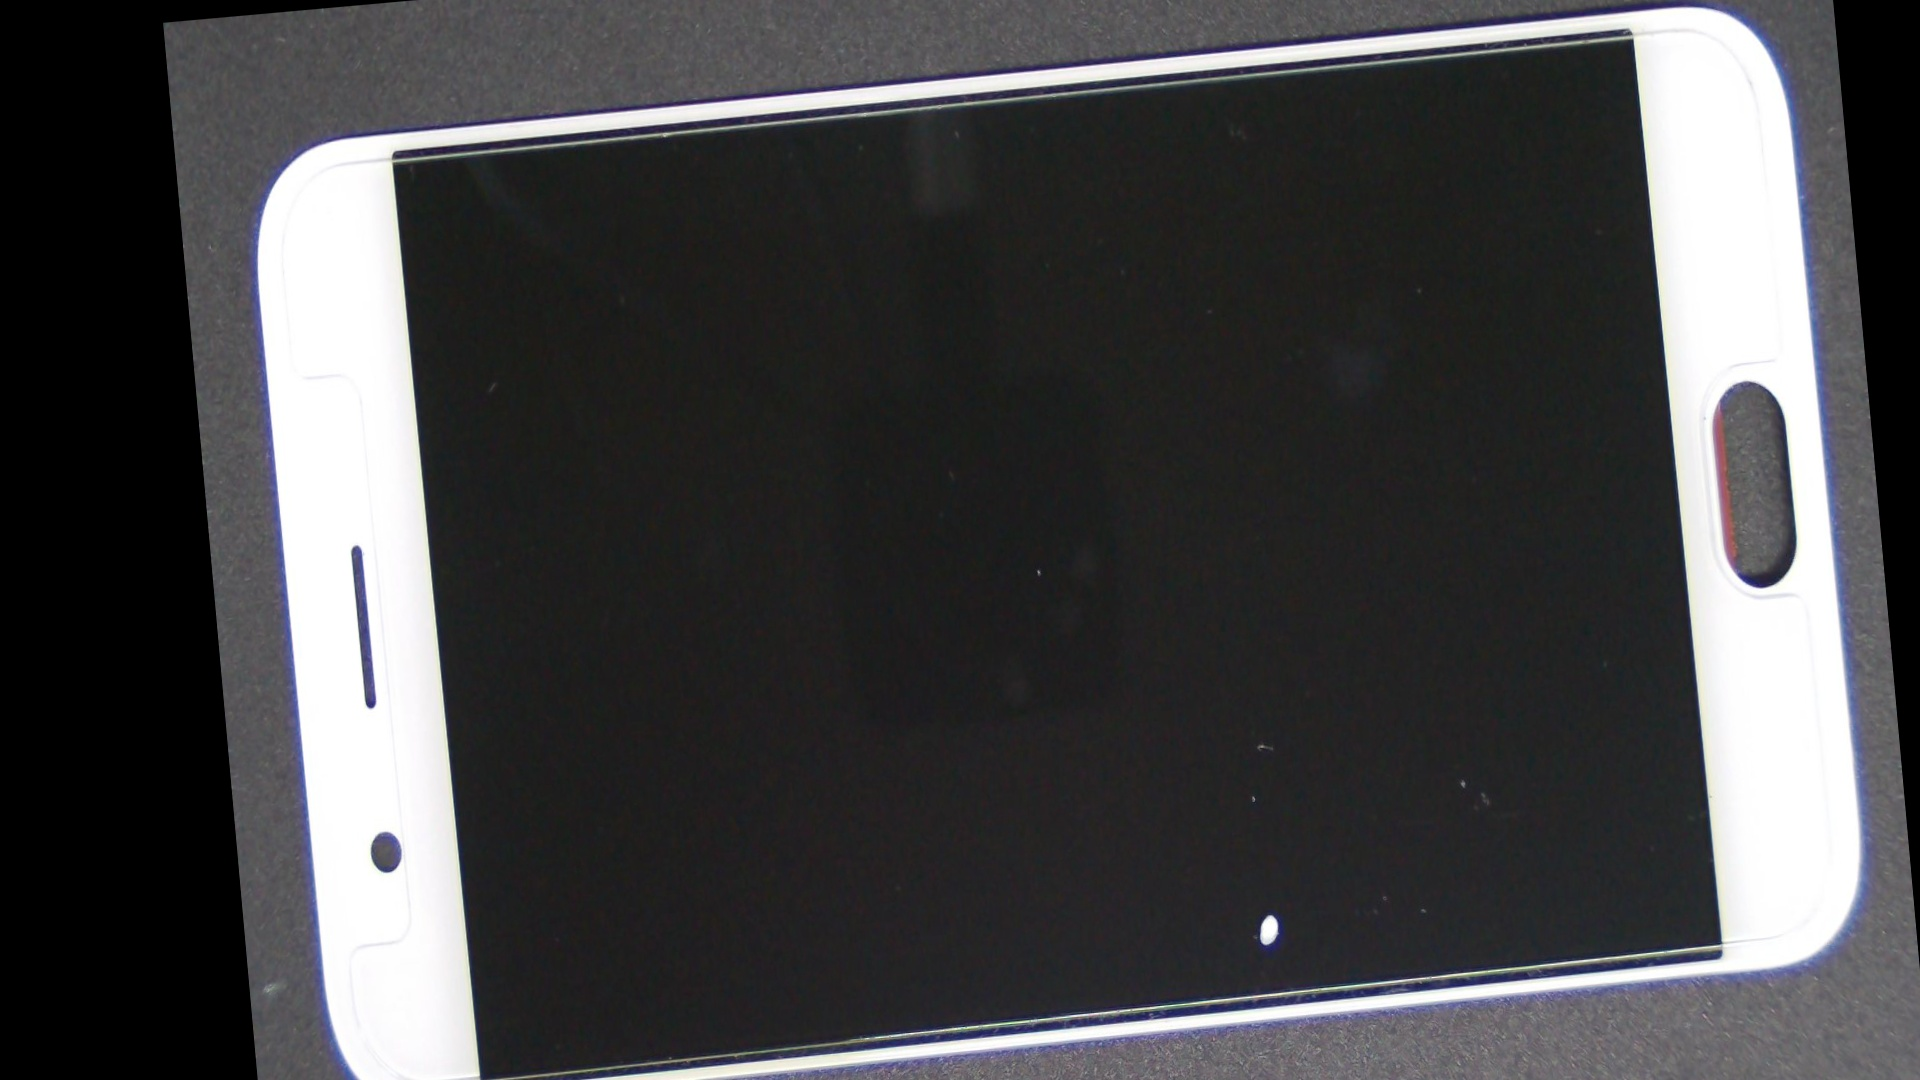oil: (716, 377, 1797, 1080)
